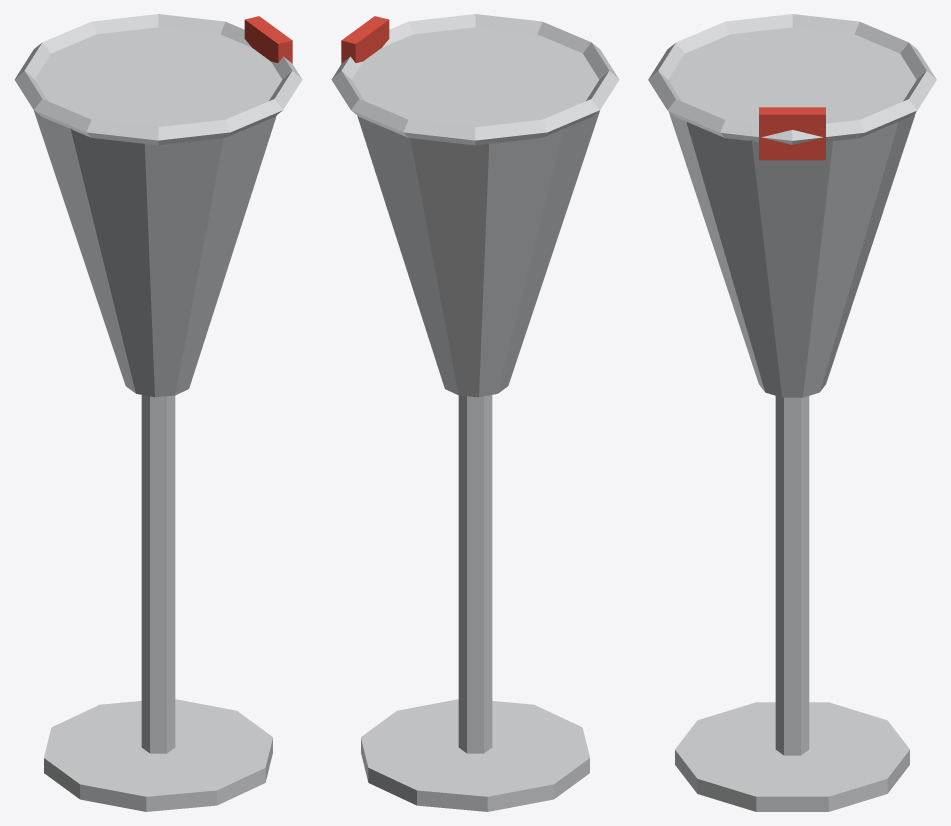
Rendered from wine_glass.glb.
3 views of the same model, side by side, from view 1: azimuth 30°, elevation 25°; view 2: azimuth 150°, elevation 25°; view 3: azimuth 270°, elevation 25° (orthographic).
Visible parts, largest first — view 1: WineGlass; view 2: WineGlass; view 3: WineGlass.
Boxes of the visible parts, x1=… form: WineGlass: x1=14, y1=14, x2=302, y2=811; WineGlass: x1=331, y1=14, x2=619, y2=811; WineGlass: x1=648, y1=14, x2=936, y2=811.
Size of the model in its own units: 0.086 by 0.2325 by 0.086.
